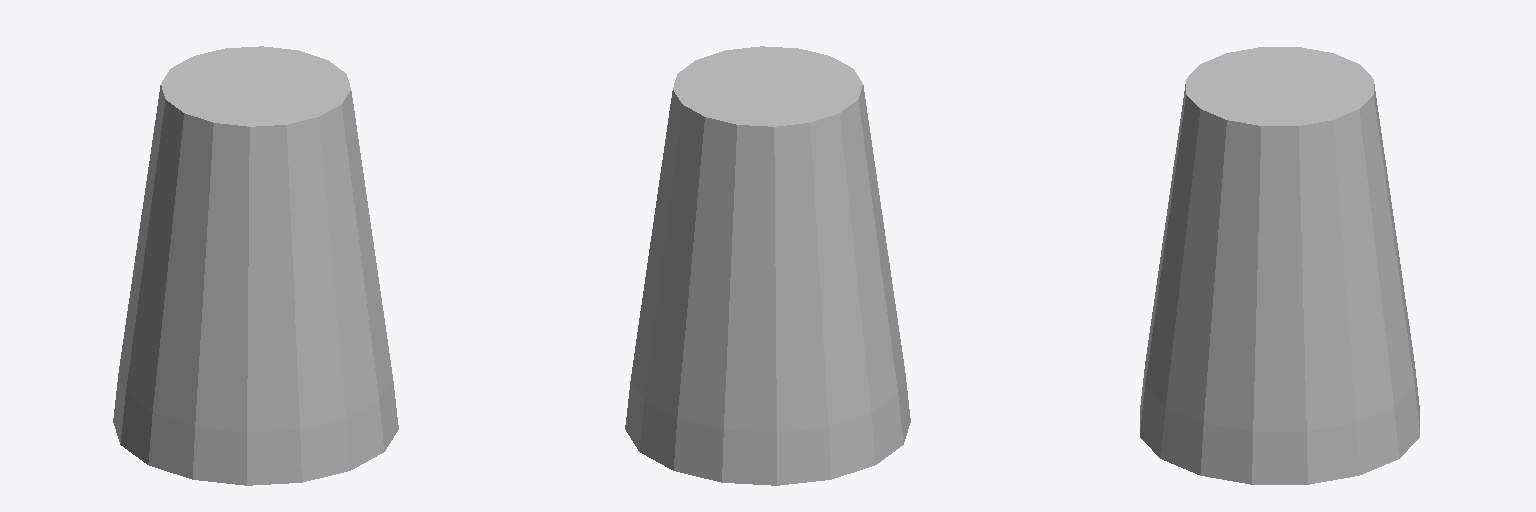
Rendered from Prince_Adapter_A_Collider.obj.
The picture shows the model from 3 angles: view 1: azimuth 30°, elevation 25°; view 2: azimuth 150°, elevation 25°; view 3: azimuth 270°, elevation 25°; orthographic projection.
Parts seen in each view (by area): view 1: Prince_Adapter_A_Collider; view 2: Prince_Adapter_A_Collider; view 3: Prince_Adapter_A_Collider.
Part boxes in pixels (left/top/right/bottom): Prince_Adapter_A_Collider: left=113, top=46, right=398, bottom=485; Prince_Adapter_A_Collider: left=625, top=46, right=910, bottom=485; Prince_Adapter_A_Collider: left=1140, top=47, right=1419, bottom=484.
Bounding box in the file's own units: 1.88 × 2.5 × 1.88.